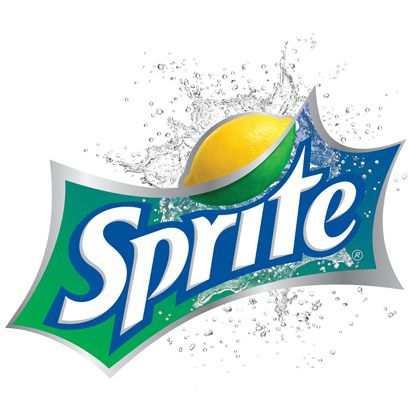sprite: (57, 144, 356, 340), (57, 144, 356, 334)
